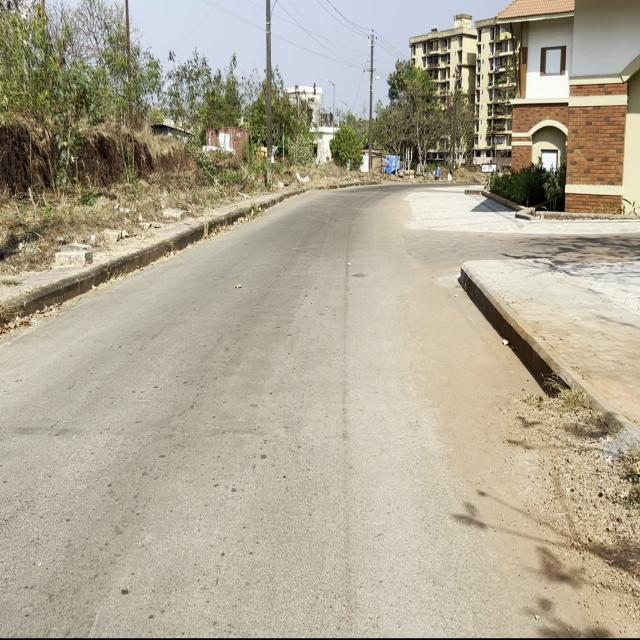Road: (1, 187, 640, 636)
